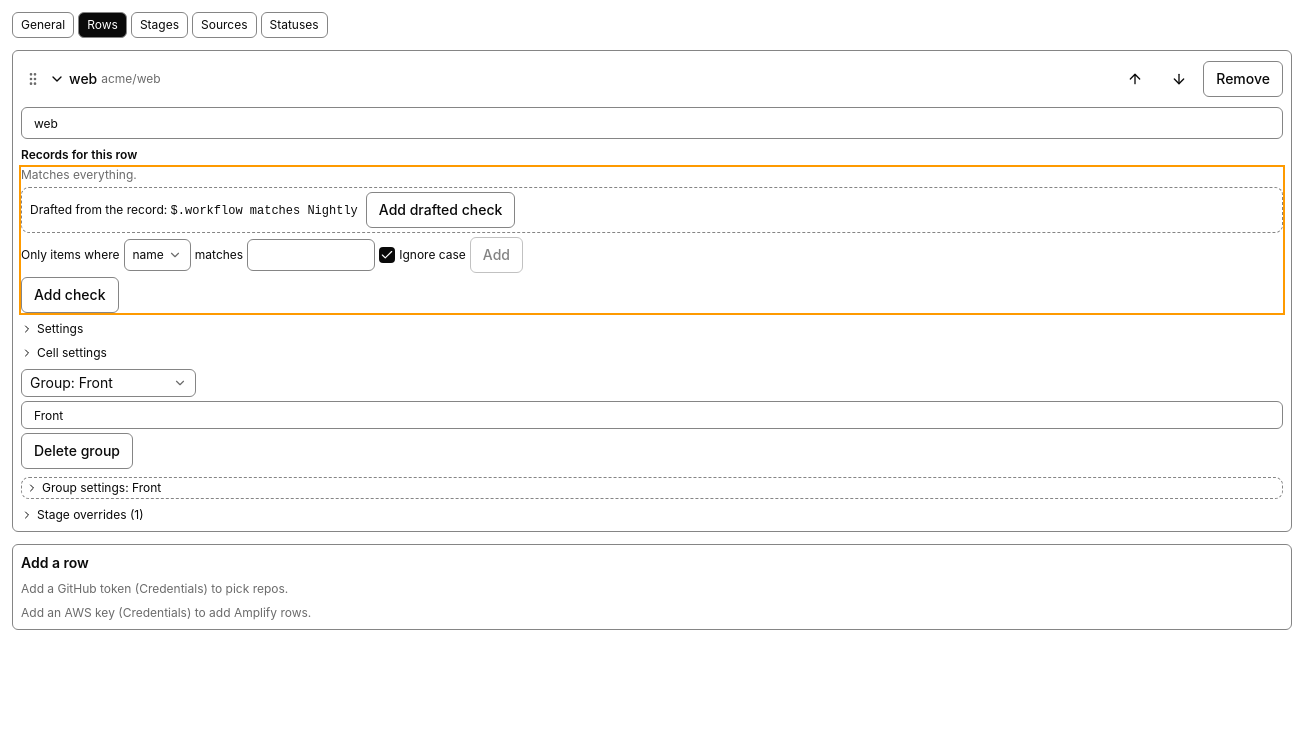
opening the editor at an item › offers a check drafted from the record on the focused rule
Expected: the text "$.workflow matches Nightly" is shown, [171, 204, 358, 218]
Click the button "Add drafted check" at (441, 210), box [366, 192, 515, 228]
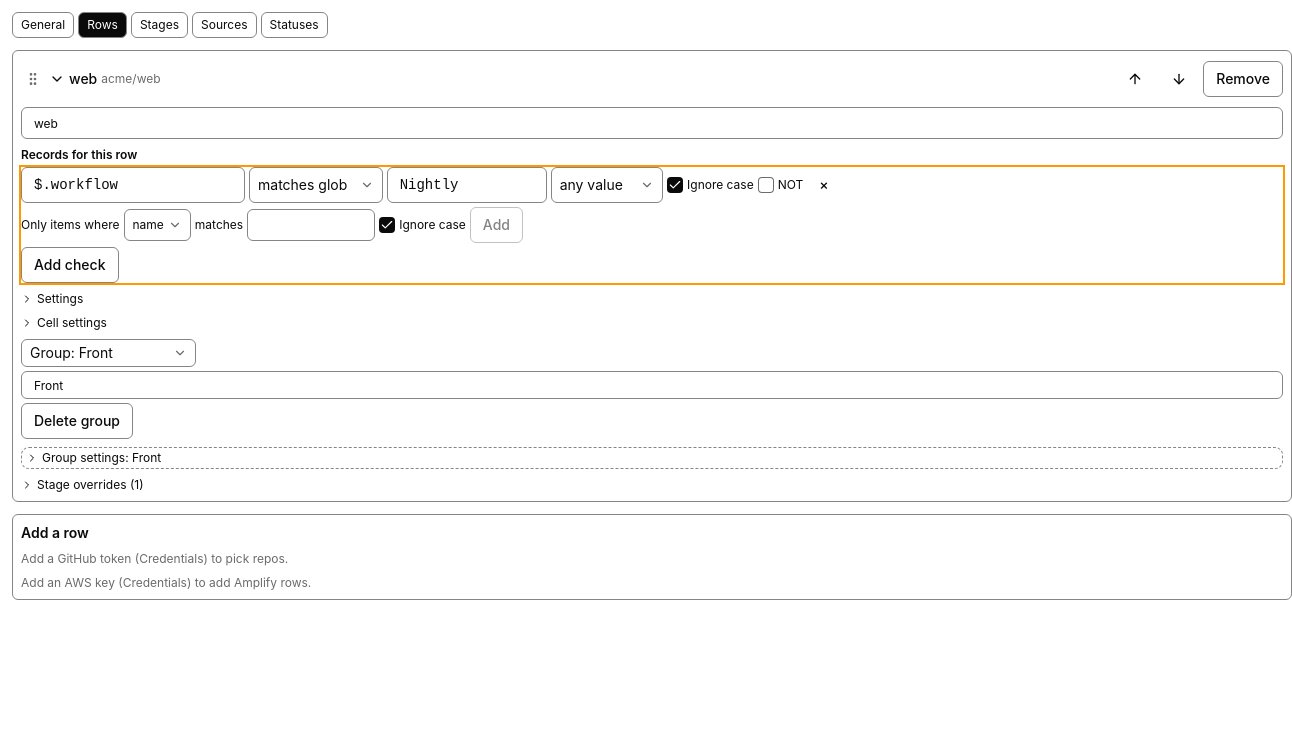
Now the button "Add drafted check" is gone
